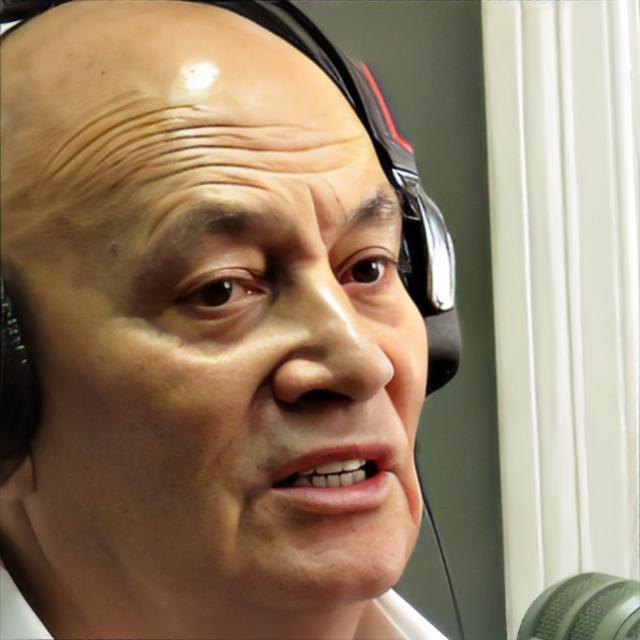disgust: (44, 0, 430, 613)
